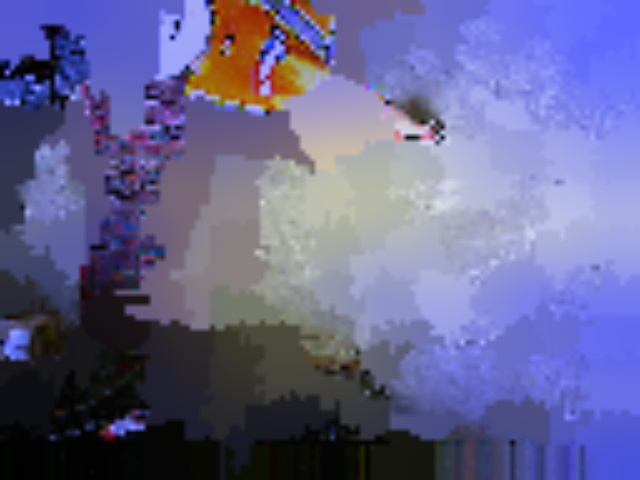three: (133, 1, 178, 43)
